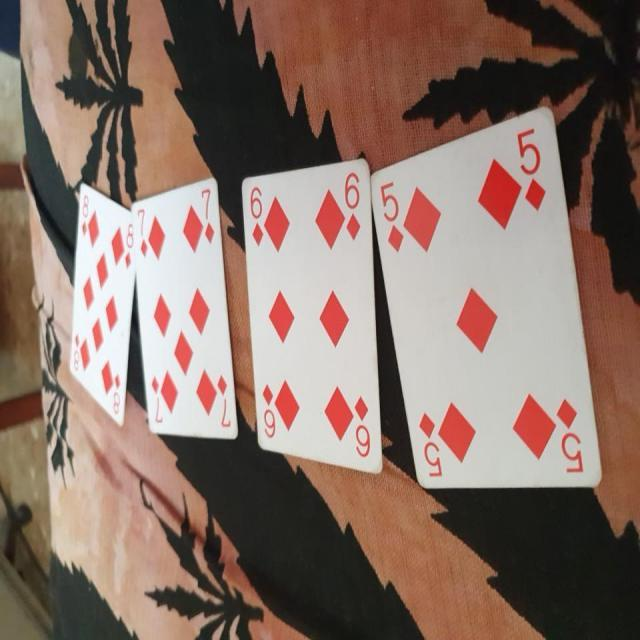5 of diamonds: (369, 110, 607, 490)
6 of diamonds: (238, 157, 384, 476)
7 of diamonds: (132, 177, 240, 442)
8 of diamonds: (67, 182, 135, 427)
